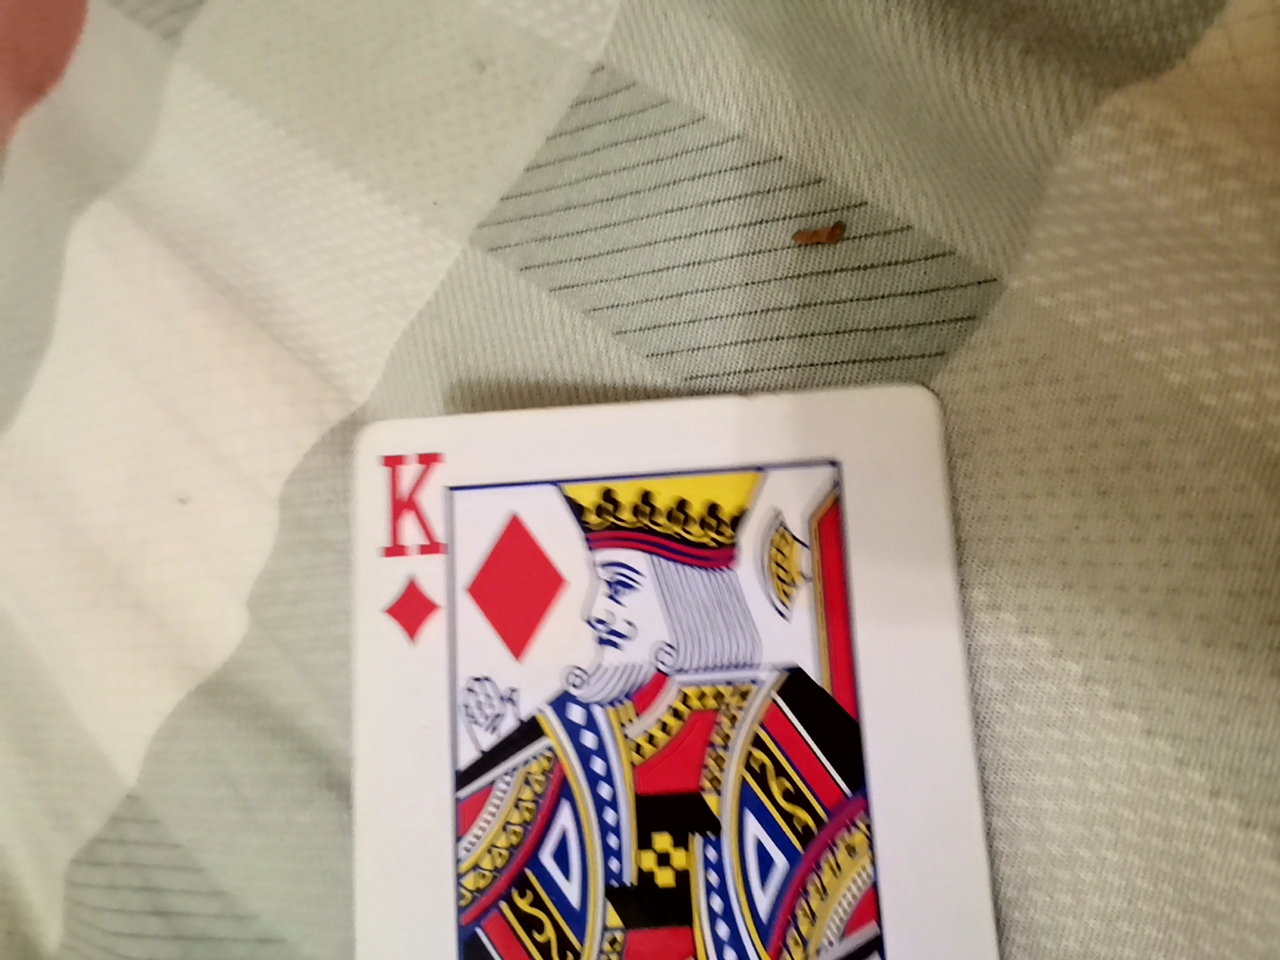fk k: (313, 397, 1003, 960)
